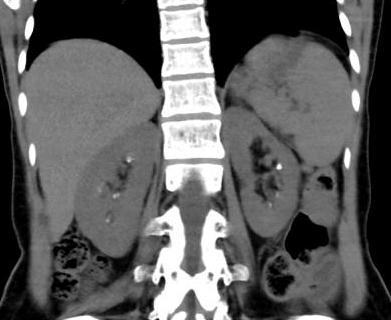Tas_Var: (125, 154, 134, 164), (104, 215, 110, 228), (96, 184, 102, 194), (276, 162, 282, 172), (112, 191, 116, 200), (268, 202, 274, 208), (274, 192, 280, 198), (117, 192, 120, 200)
